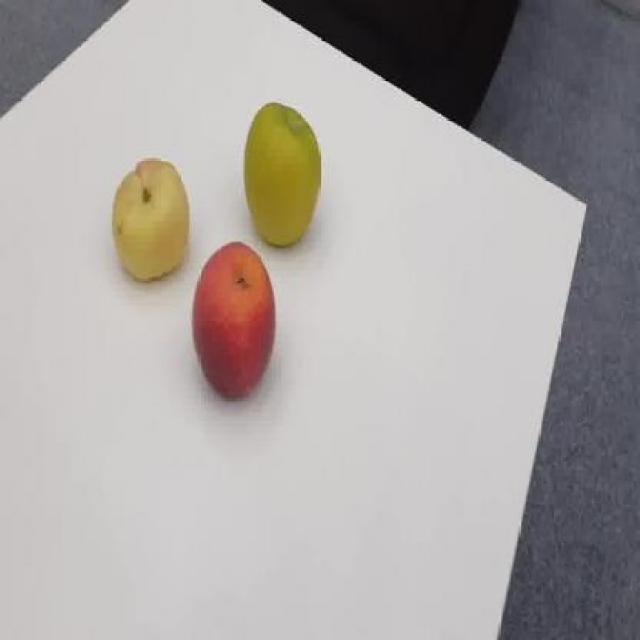Fresh Apple: (195, 239, 278, 401), (239, 101, 324, 252), (110, 150, 192, 282)
